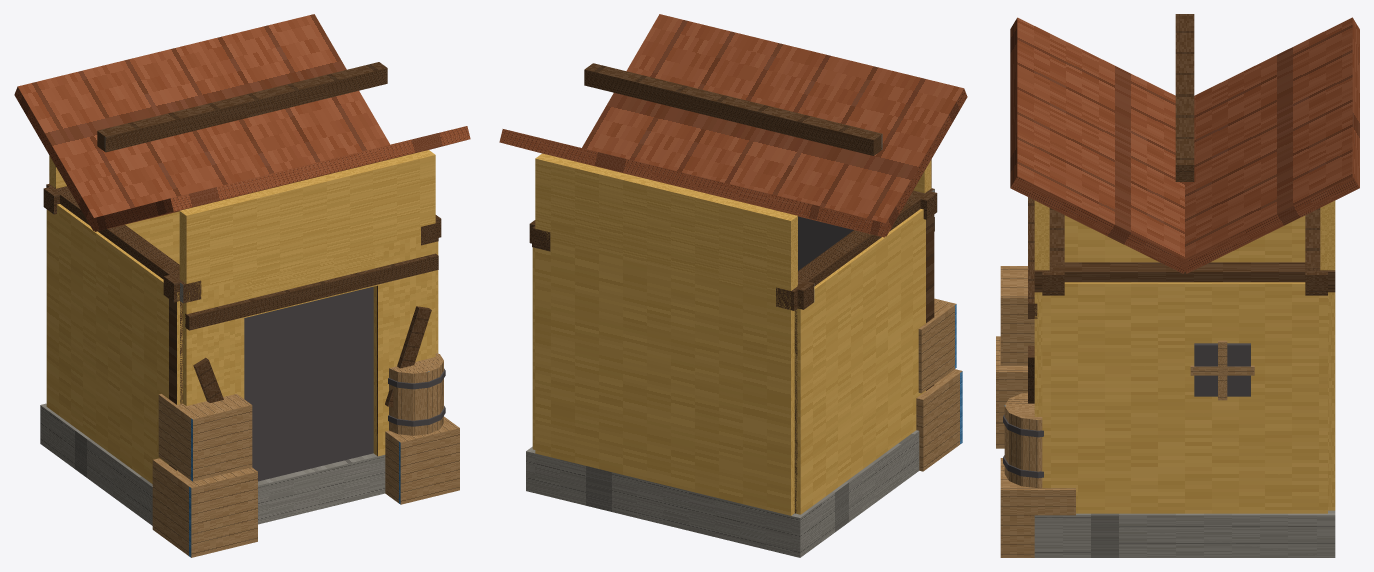
Rendered from storage_building.glb.
The picture shows the model from 3 angles, left to right: view 1: azimuth 30°, elevation 25°; view 2: azimuth 150°, elevation 25°; view 3: azimuth 270°, elevation 25°; orthographic projection. The views are drawn at different scales.
Visible parts, largest first — view 1: Dach1.001, WandS-1, GiebelV, TorDunkel, Sockel, Kiste1, First.001, Kiste2, WandV1, Dach-1.001, WandV-1, Kiste3 (+7 smaller); view 2: WandH, Dach-1.001, WandS-1, GiebelH, Sockel, First.001, Dach1.001, Kiste1, Kiste2, BalkenS-1, TorDunkel, WandS1; view 3: WandS1, Dach1.001, Dach-1.001, Sockel, BalkenS1, WandS-1, Kiste3, First.001, Kiste2, Fass, Fenster, WandH (+9 smaller).
Boxes of the visible parts, <box> form: Dach1.001: <box>14,14,389,230</box>; WandS-1: <box>46,204,182,483</box>; GiebelV: <box>179,150,435,290</box>; TorDunkel: <box>244,286,373,481</box>; Sockel: <box>40,403,385,525</box>; Kiste1: <box>152,458,257,557</box>; First.001: <box>97,62,387,152</box>; Kiste2: <box>158,394,252,481</box>; WandV1: <box>373,236,435,456</box>; Dach-1.001: <box>93,126,470,231</box>; WandV-1: <box>183,279,244,405</box>; Kiste3: <box>385,416,459,504</box>; WandH: <box>535,242,794,515</box>; Dach-1.001: <box>582,14,967,236</box>; WandS-1: <box>794,209,934,514</box>; GiebelH: <box>535,153,797,299</box>; Sockel: <box>526,430,919,557</box>; First.001: <box>584,63,882,155</box>; Dach1.001: <box>499,129,887,237</box>; Kiste1: <box>916,369,962,471</box>; Kiste2: <box>918,298,956,393</box>; BalkenS-1: <box>776,188,934,310</box>; TorDunkel: <box>798,216,853,270</box>; WandS1: <box>532,247,535,449</box>; WandS1: <box>1042,282,1327,513</box>; Dach1.001: <box>1179,17,1359,273</box>; Dach-1.001: <box>1010,17,1189,273</box>; Sockel: <box>1034,510,1335,557</box>; BalkenS1: <box>1034,262,1335,292</box>; WandS-1: <box>1064,215,1305,262</box>; Kiste3: <box>1000,458,1075,557</box>; First.001: <box>1175,14,1194,181</box>; Kiste2: <box>1000,266,1034,365</box>; Fass: <box>1004,392,1042,488</box>; Fenster: <box>1194,343,1250,396</box>; WandH: <box>1328,292,1335,510</box>.
Bounding box in the file's own units: 2 × 2.33 × 1.93.
6 materials, 5 textured.
